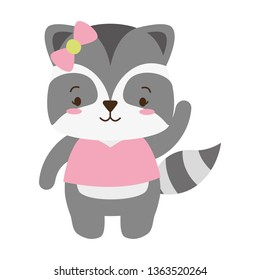animal: (38, 20, 223, 238)
